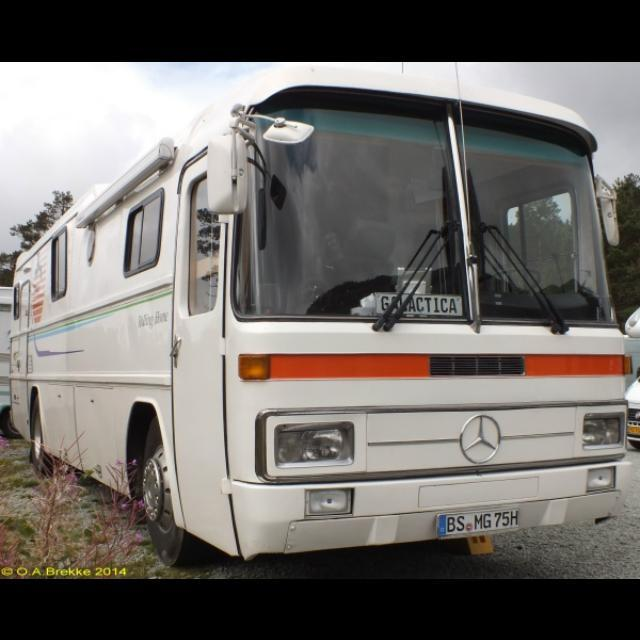license-plates: (438, 510, 520, 538)
